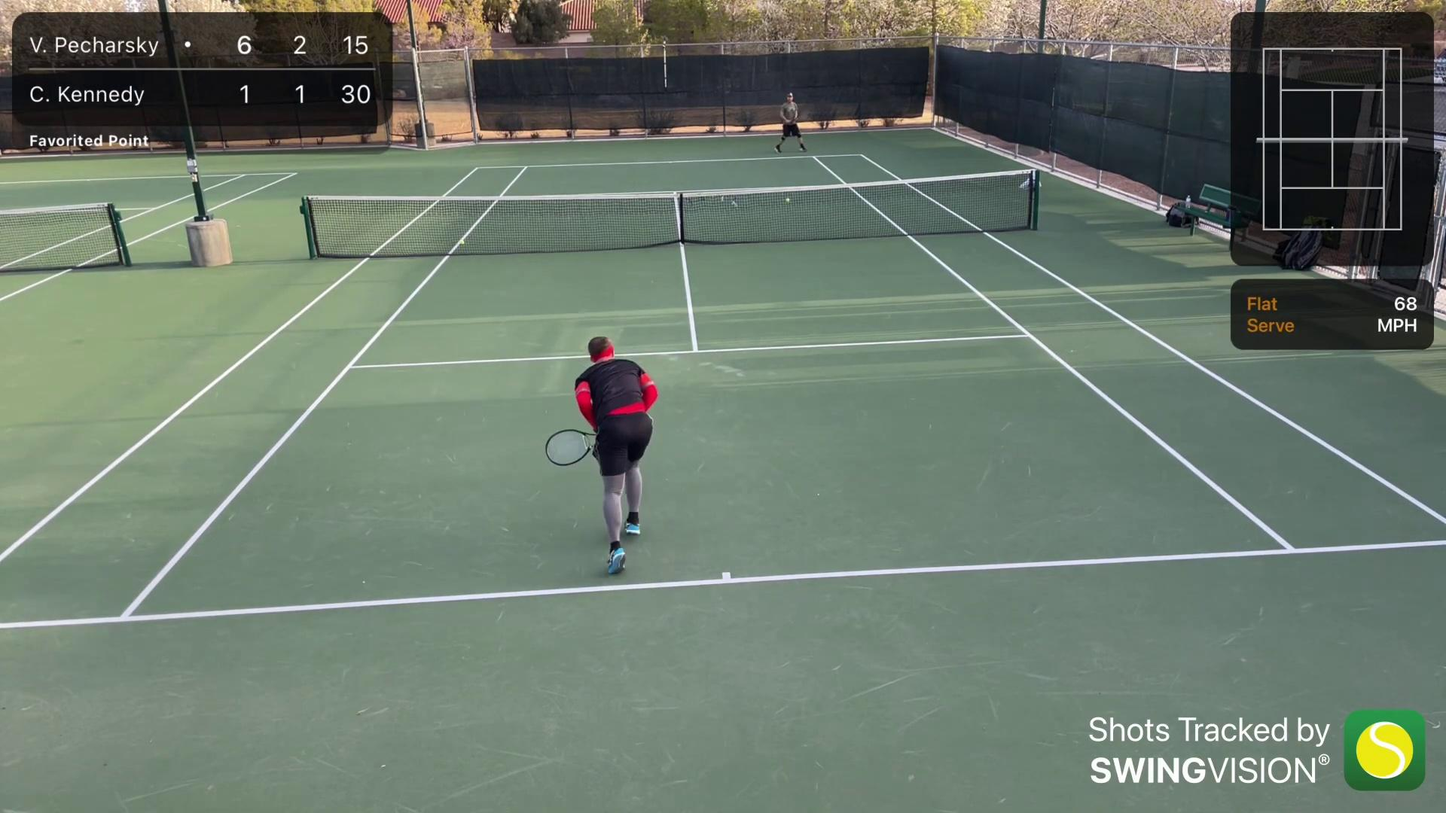ball: (785, 198, 792, 204)
